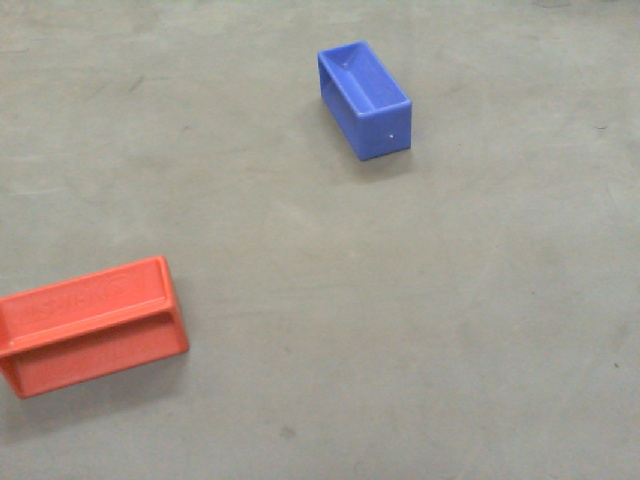BlueSample: (309, 39, 415, 163)
RedSample: (1, 252, 189, 398)
